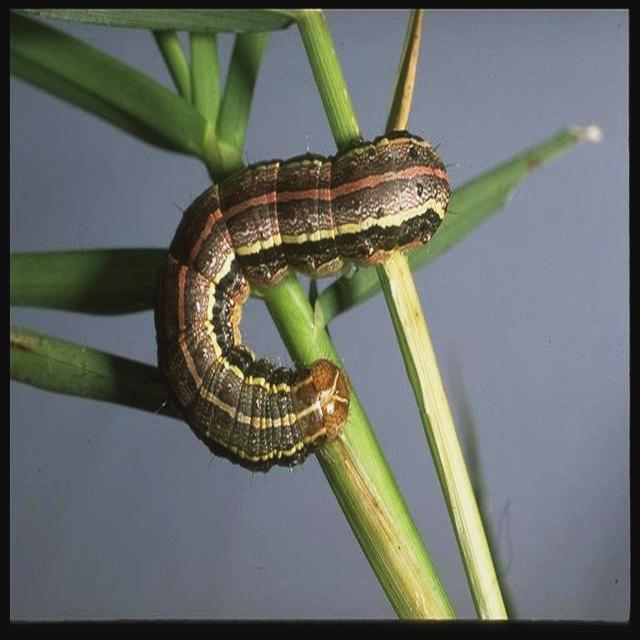Plaga: (153, 131, 455, 470)
